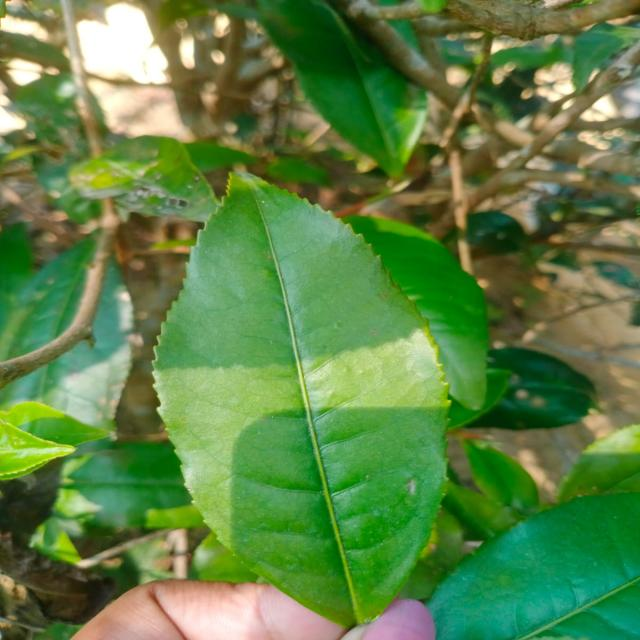Category D(7+ days, Not for Tea): (144, 148, 453, 631)
